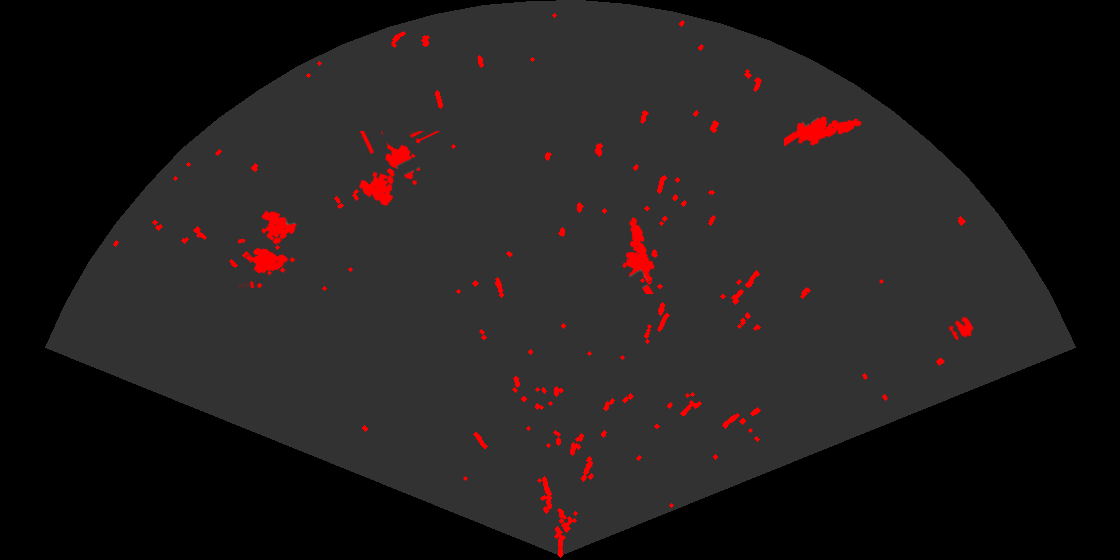ball: (947, 315, 975, 342)
cage: (358, 131, 441, 207), (238, 209, 298, 288)
frogman: (621, 216, 656, 294), (784, 115, 863, 148)
